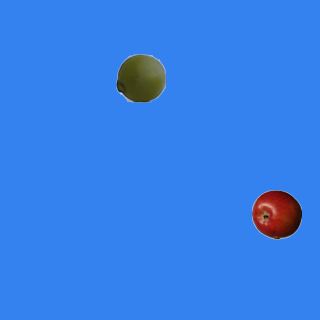Apple Braeburn: (251, 189, 301, 239)
Grape White 4: (115, 52, 165, 102)
